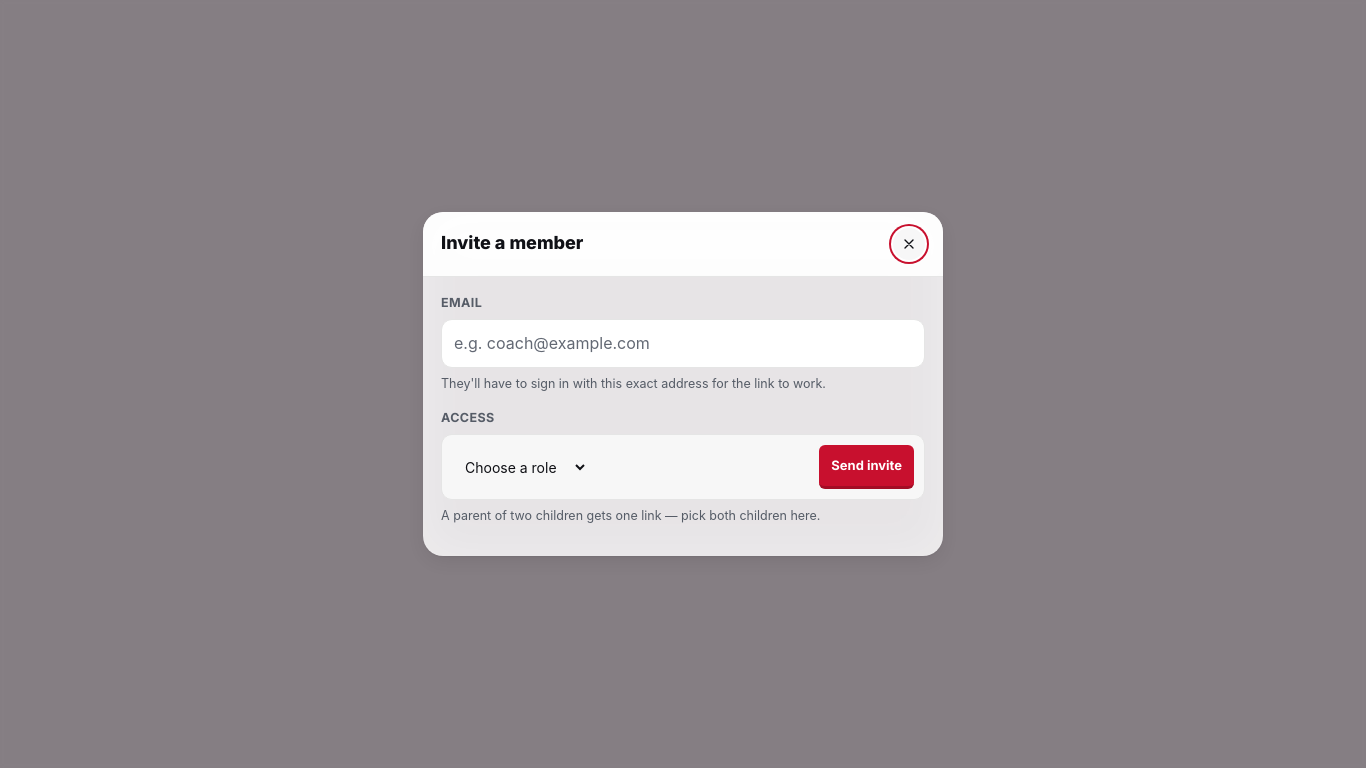
Test: The role pickers offer Team Manager and Medic › asks for age groups when the role is coach
Select "Coach" in the dropdown named "Role for the new member". click: (520, 467)
box: [452,453,589,482]
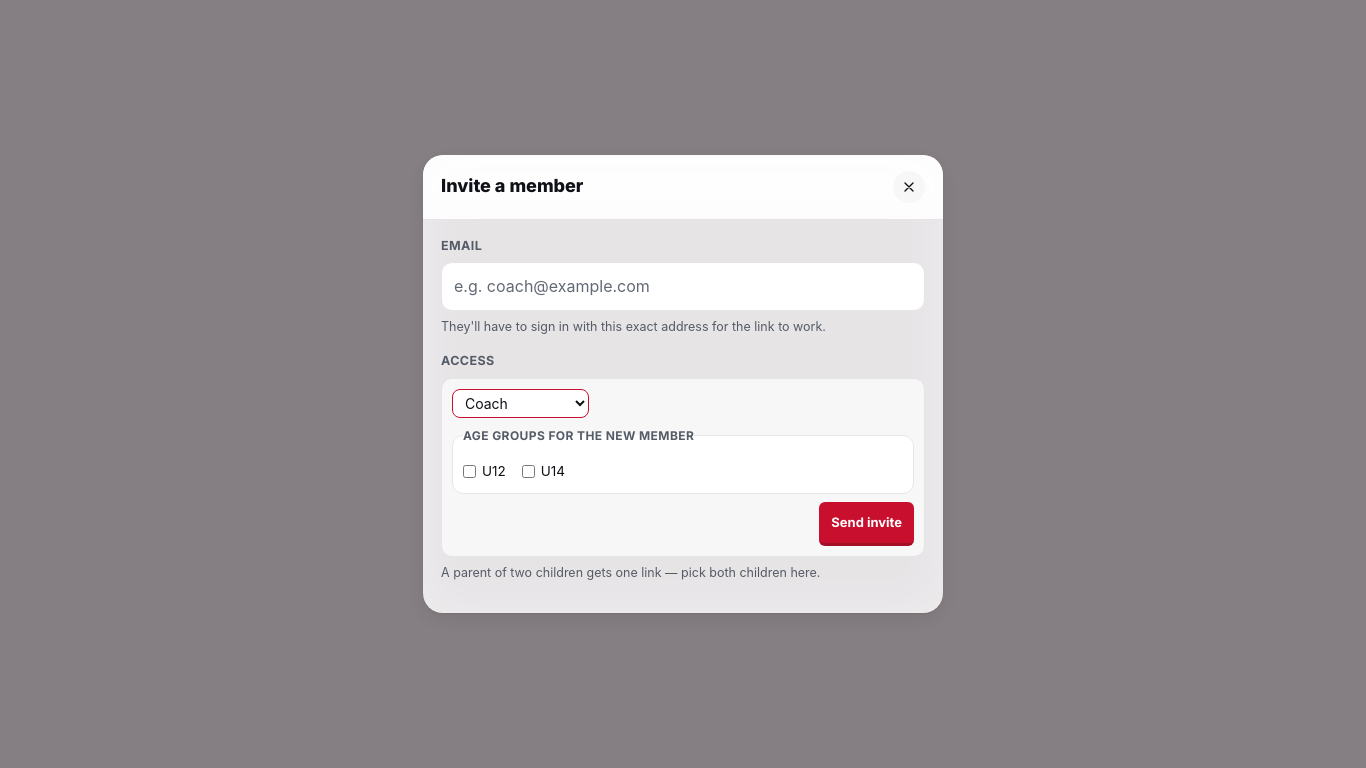
Check: the element with test id "age-group-picker" is shown, box [452,426,914,494]
